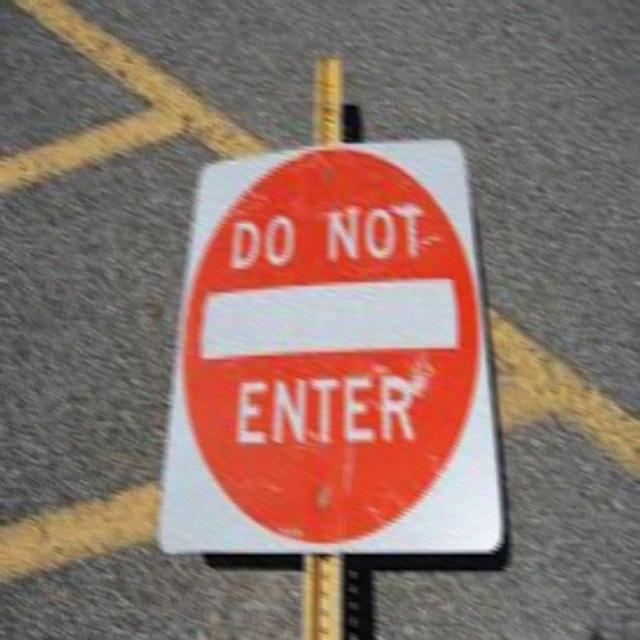doNotEnter: (162, 142, 504, 549)
